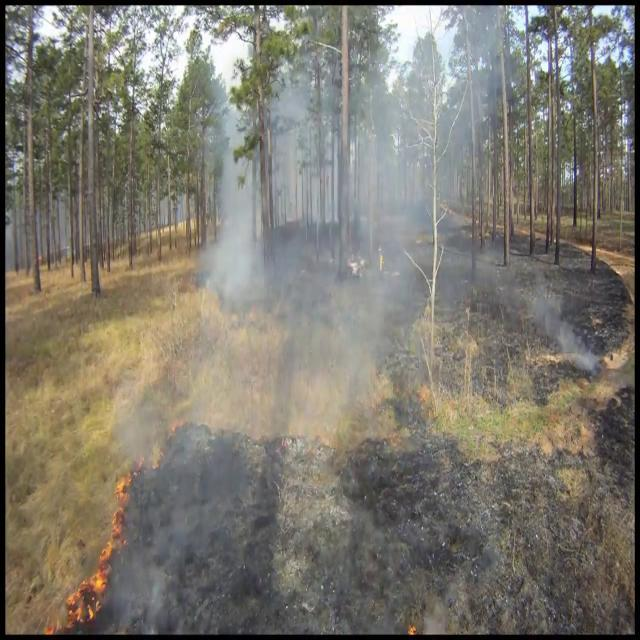Fire: (65, 460, 138, 628)
Smoke: (146, 2, 522, 424), (511, 267, 596, 374)
